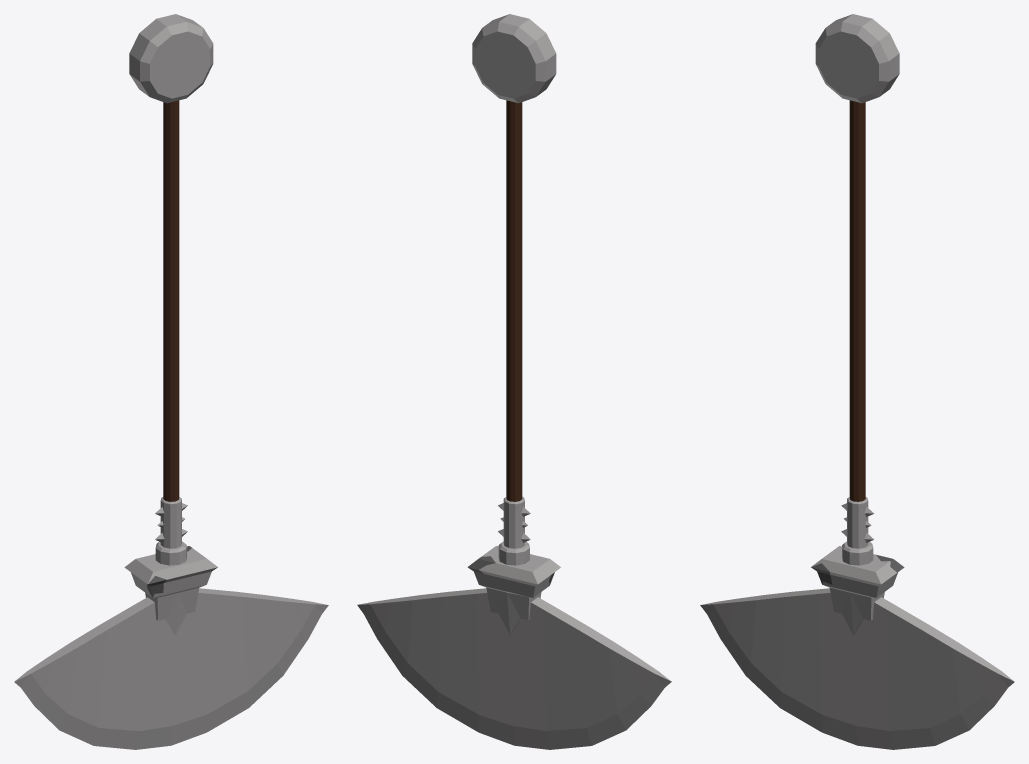
The model's file is MetalPendulumTrap_3.fbx.
The picture shows the model from 3 angles, left to right: view 1: azimuth 30°, elevation 25°; view 2: azimuth 150°, elevation 25°; view 3: azimuth 330°, elevation 25°; orthographic projection.
Parts seen in each view (by area): view 1: MetalPendulumTrap_3; view 2: MetalPendulumTrap_3; view 3: MetalPendulumTrap_3.
Part boxes in pixels (<box>): MetalPendulumTrap_3: <box>14,14,328,749</box>; MetalPendulumTrap_3: <box>357,14,671,749</box>; MetalPendulumTrap_3: <box>700,14,1014,749</box>.
Size of the model in its own units: 162 by 357 by 20.83.
